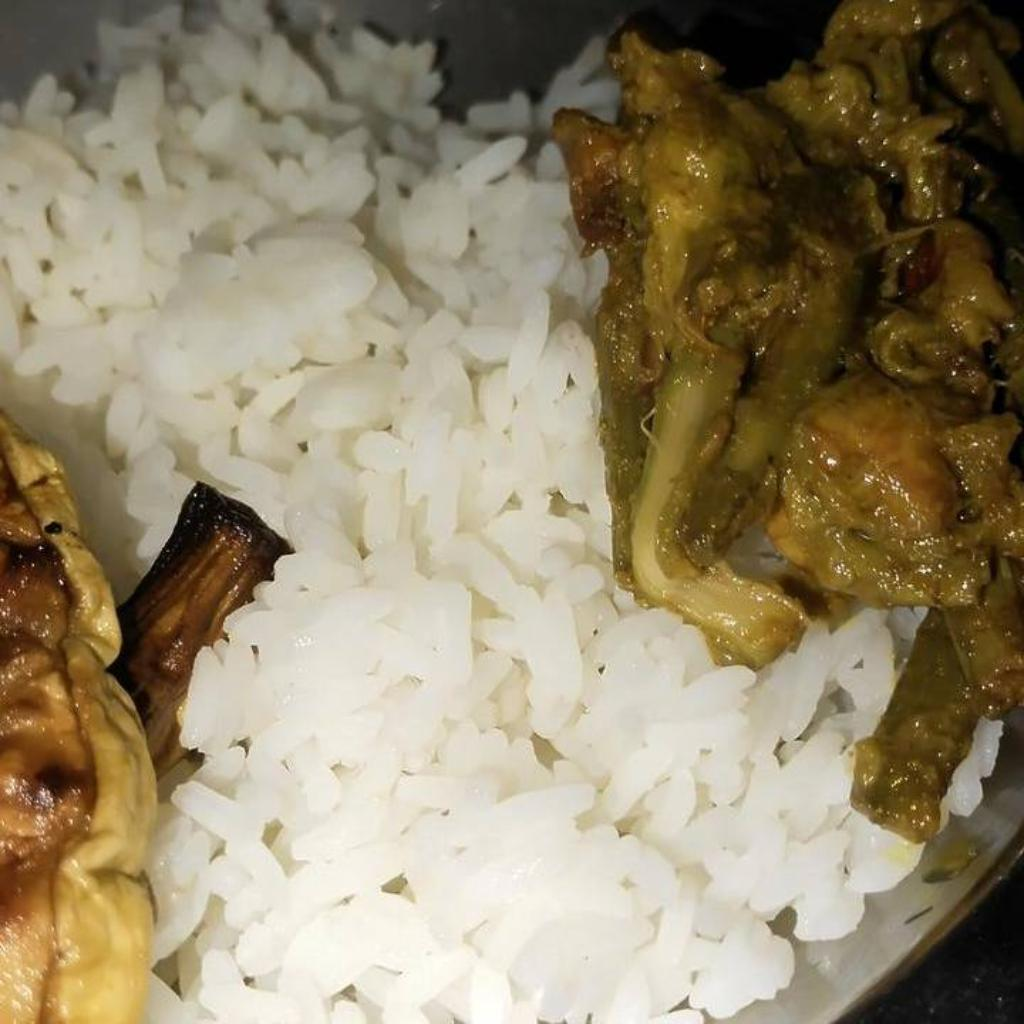fish: (553, 0, 1023, 803)
potol: (0, 415, 287, 1023)
rice: (0, 4, 914, 1019)
